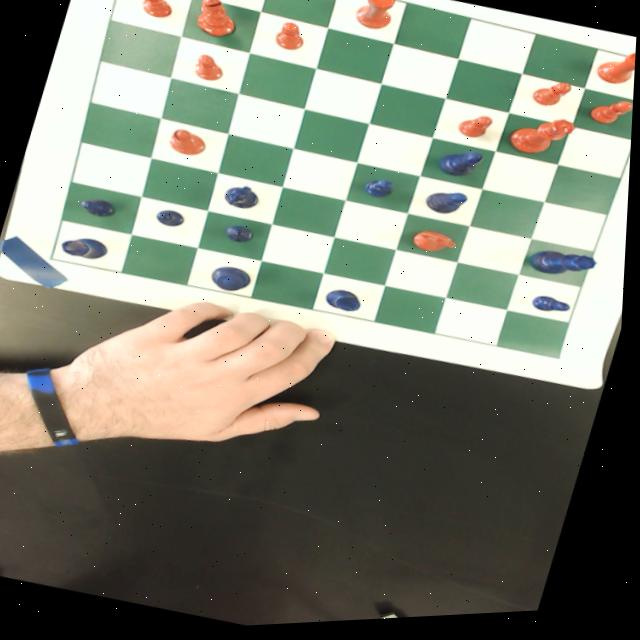B: (435, 148, 486, 187), (423, 189, 471, 224)
K: (207, 263, 256, 299)
N: (219, 181, 268, 218)
P: (531, 296, 577, 324), (77, 194, 119, 222), (362, 178, 398, 205), (221, 224, 257, 249), (155, 207, 189, 231)
Q: (529, 248, 601, 291)
R: (61, 232, 115, 267), (325, 290, 366, 318)
b: (187, 0, 243, 44), (166, 128, 210, 161)
k: (188, 0, 253, 5)
n: (411, 229, 462, 263)
p: (586, 99, 635, 136), (529, 80, 574, 118), (267, 20, 310, 57), (456, 114, 497, 148), (189, 53, 227, 86), (133, 0, 176, 23)
q: (505, 113, 578, 169)
r: (593, 48, 637, 100), (352, 0, 399, 37)
